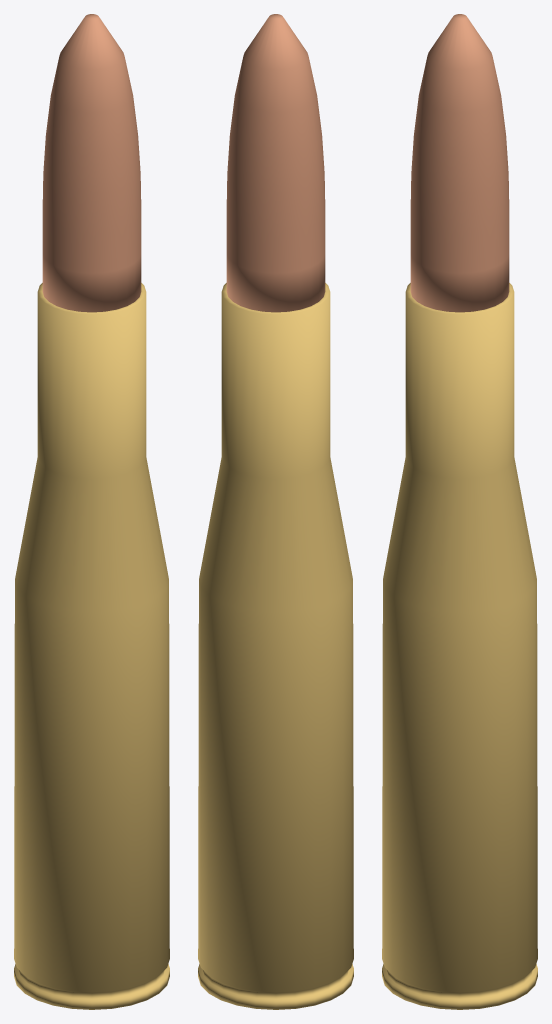
The model's file is 50bmg_std.glb.
3 renders of one model, left to right at view 1: azimuth 30°, elevation 25°; view 2: azimuth 150°, elevation 25°; view 3: azimuth 270°, elevation 25°, orthographic.
Visible parts, largest first — view 1: vaina, bala; view 2: vaina, bala; view 3: vaina, bala.
Part boxes in pixels (bbox=[...]): vaina: bbox=[14, 283, 169, 1009]; bala: bbox=[42, 14, 141, 312]; vaina: bbox=[198, 283, 353, 1009]; bala: bbox=[226, 14, 325, 312]; vaina: bbox=[382, 283, 537, 1009]; bala: bbox=[410, 14, 509, 312].
Size of the model in its own units: 0.0204 by 0.1388 by 0.0204.
